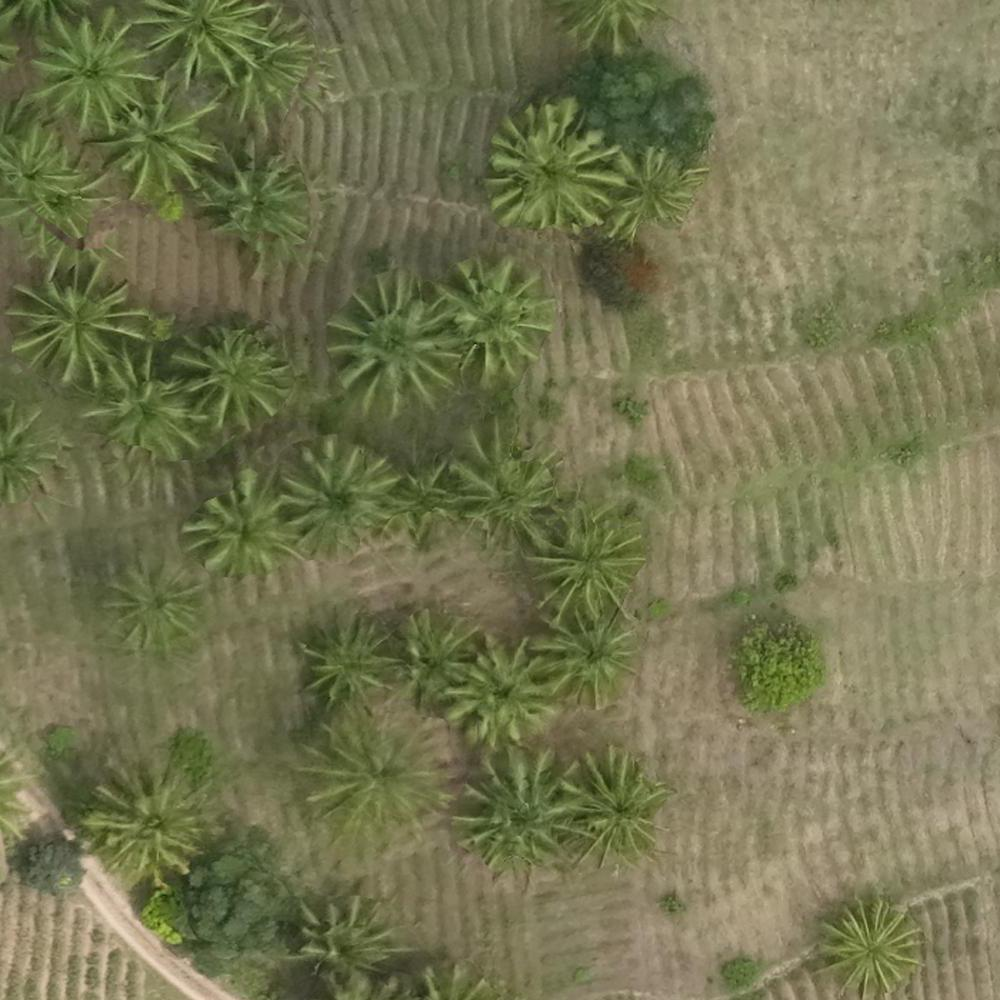Palm: (487, 100, 614, 227), (328, 282, 453, 410), (308, 719, 442, 838), (12, 259, 137, 377), (450, 745, 569, 868), (86, 765, 207, 881), (97, 82, 221, 195), (33, 11, 153, 122), (85, 348, 201, 461), (524, 507, 642, 616), (440, 263, 546, 377), (178, 325, 287, 435), (559, 752, 666, 862), (284, 444, 391, 549), (209, 142, 314, 247), (438, 640, 543, 742), (193, 478, 297, 580), (525, 610, 632, 708), (145, 1, 262, 88), (457, 445, 557, 545), (383, 604, 478, 704), (301, 613, 400, 708), (822, 897, 920, 992), (105, 562, 196, 650), (604, 147, 692, 233), (1, 132, 76, 218), (384, 457, 461, 536)
